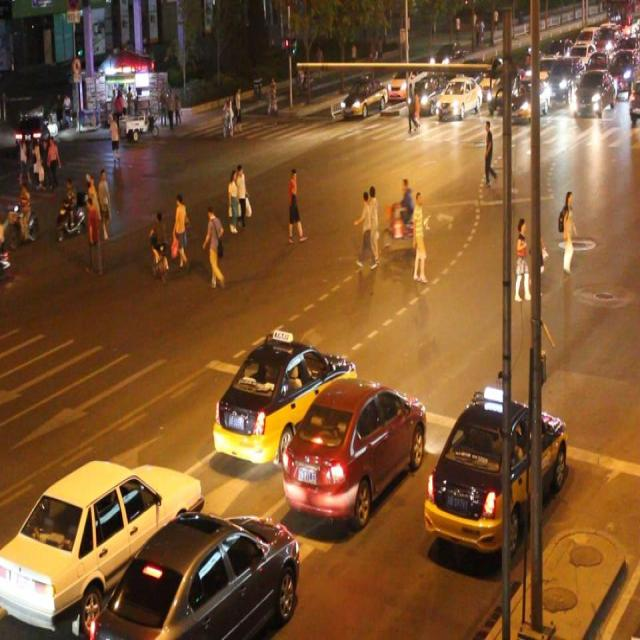car: (1, 457, 202, 629), (91, 509, 298, 640), (426, 397, 566, 554), (284, 381, 426, 517), (214, 334, 356, 462), (406, 68, 445, 116), (436, 76, 480, 118), (344, 73, 384, 118)
